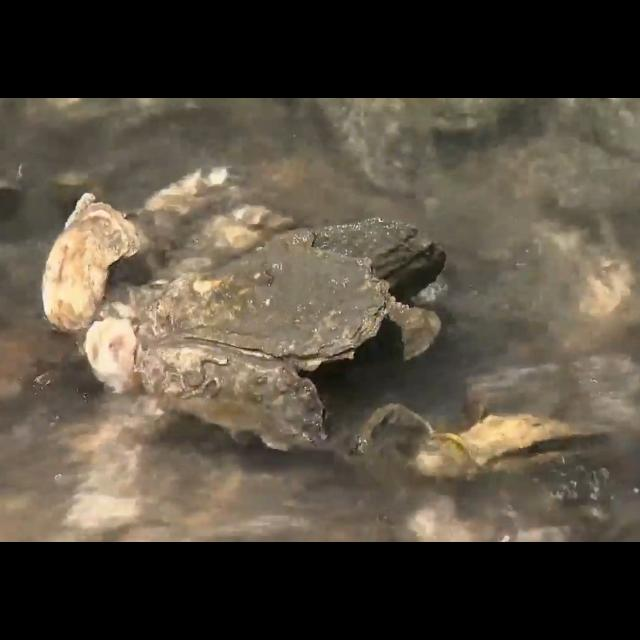Oyster-Closed: (152, 242, 394, 370), (140, 344, 330, 454), (120, 161, 262, 261), (40, 191, 140, 329), (294, 217, 448, 291), (154, 202, 294, 278), (356, 403, 436, 499), (82, 318, 142, 397)
Oyster-Open: (419, 414, 617, 492)
